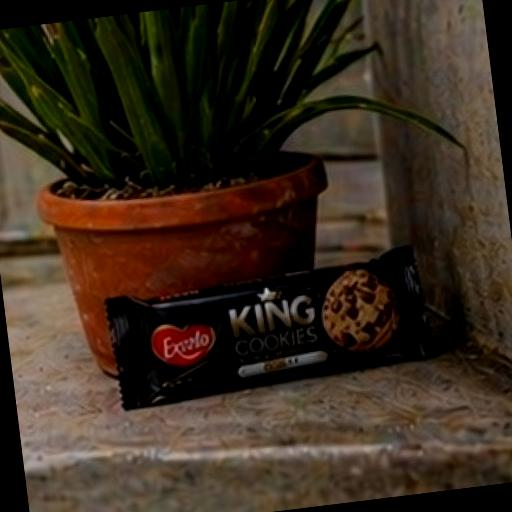king-cooking: (23, 167, 495, 448)
